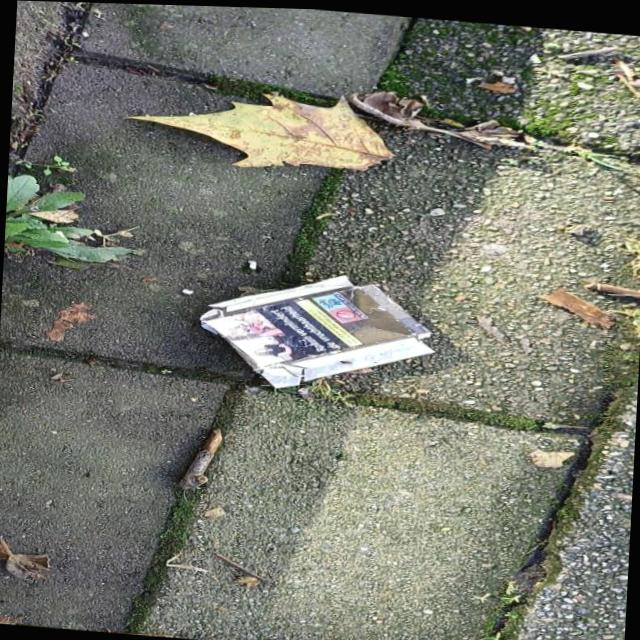Paper: (192, 258, 442, 400)
